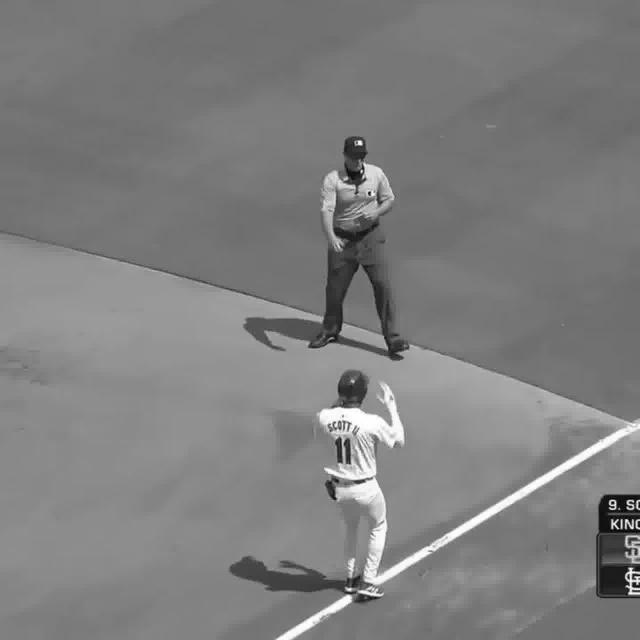shoe: (344, 569, 371, 594), (362, 583, 388, 598)
